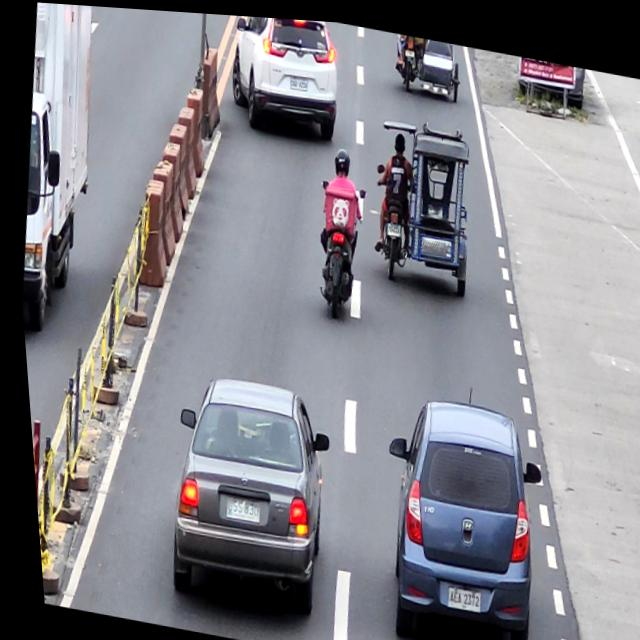Car: (356, 382, 552, 640), (148, 364, 338, 615), (221, 12, 349, 140)
License-Plate: (216, 493, 254, 521), (437, 581, 473, 608), (287, 71, 309, 87), (382, 215, 399, 232), (403, 43, 415, 53)
Motorcycle: (301, 170, 373, 319)
Tricycle: (359, 110, 485, 296), (390, 27, 465, 99)
